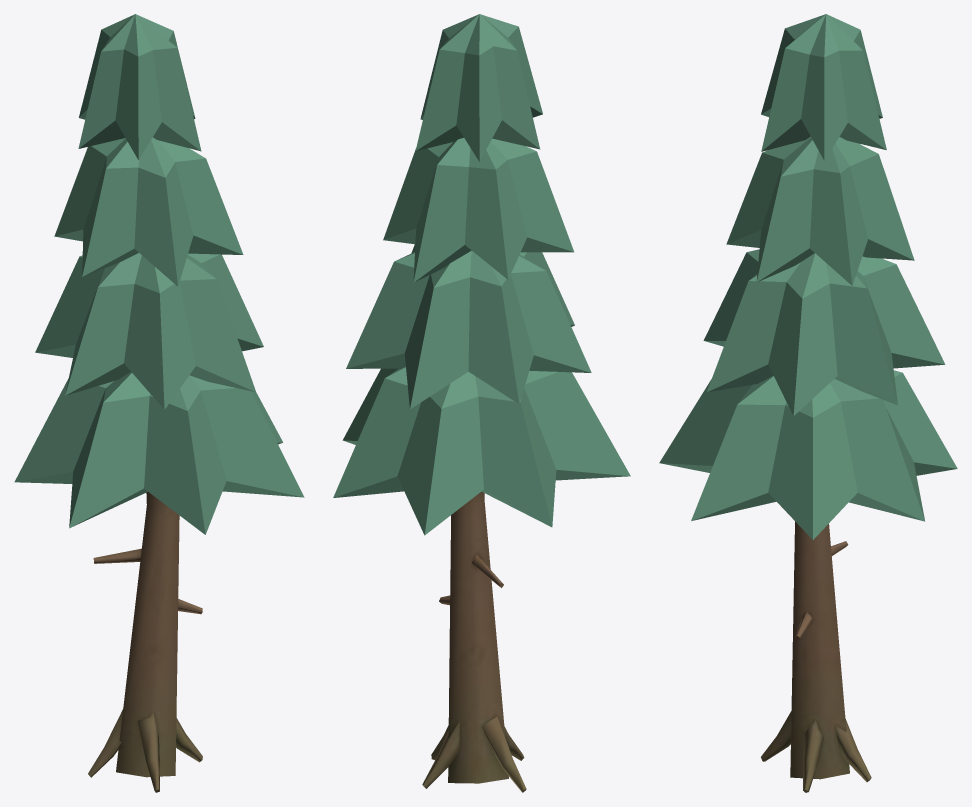
File: arv_pinheiro_2.glb
3 renders of one model, left to right at view 1: azimuth 30°, elevation 25°; view 2: azimuth 150°, elevation 25°; view 3: azimuth 270°, elevation 25°, orthographic.
Visible parts, largest first — view 1: arv_pinheiro_2_corpo; view 2: arv_pinheiro_2_corpo; view 3: arv_pinheiro_2_corpo.
Boxes of the visible parts, x1,y1,x2,y2 form: arv_pinheiro_2_corpo: (14,14,304,792); arv_pinheiro_2_corpo: (333,14,630,792); arv_pinheiro_2_corpo: (659,14,957,792).
Size of the model in its own units: 0.8603 by 2.49 by 0.8961.
2 materials, 1 textured.
